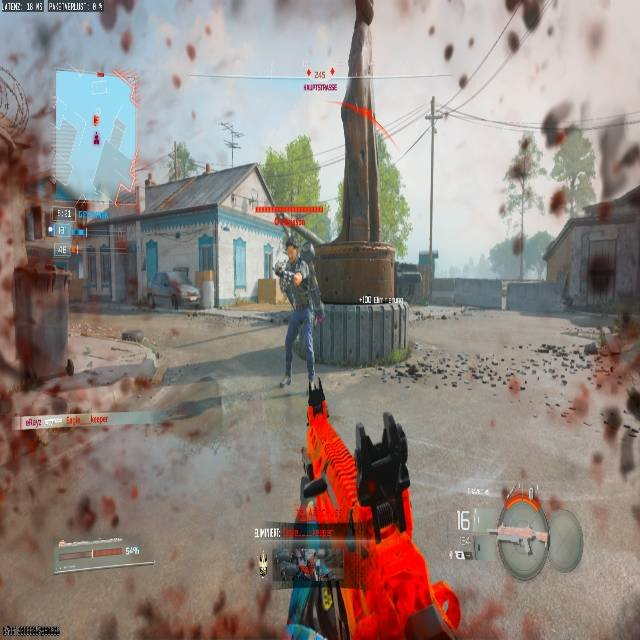head: (541, 98, 578, 147), (284, 232, 303, 260), (281, 223, 303, 241)
player: (495, 101, 600, 269), (272, 229, 323, 389), (277, 229, 315, 308)
